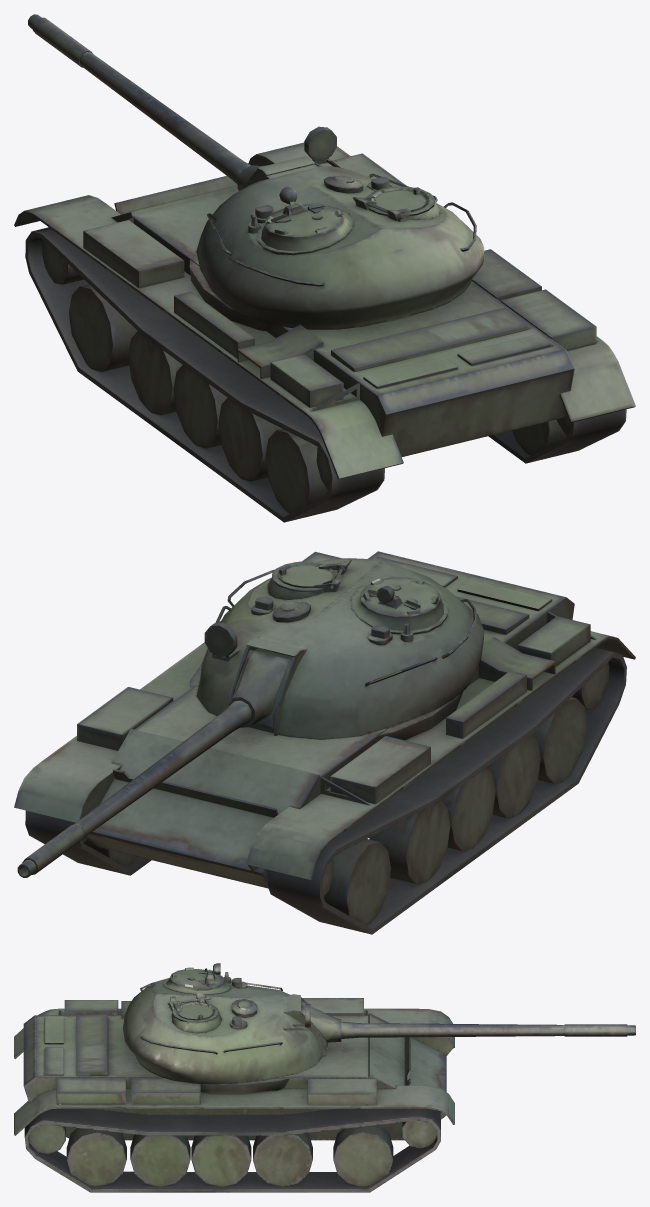
3 views of the same model, one above another, from view 1: azimuth 30°, elevation 25°; view 2: azimuth 150°, elevation 25°; view 3: azimuth 270°, elevation 25° (orthographic). The views are drawn at different scales.
Visible parts, largest first — view 1: T-55A Hull, T-55A Turret; view 2: T-55A Hull, T-55A Turret; view 3: T-55A Hull, T-55A Turret.
Boxes of the visible parts, left/top/right/bottom form: T-55A Hull: left=14, top=142, right=635, bottom=522; T-55A Turret: left=28, top=14, right=484, bottom=329; T-55A Hull: left=14, top=551, right=635, bottom=934; T-55A Turret: left=17, top=558, right=484, bottom=877; T-55A Hull: left=14, top=998, right=454, bottom=1192; T-55A Turret: left=123, top=963, right=635, bottom=1084.
Bounding box in the file's own units: 3.27 × 2.54 × 8.74.
